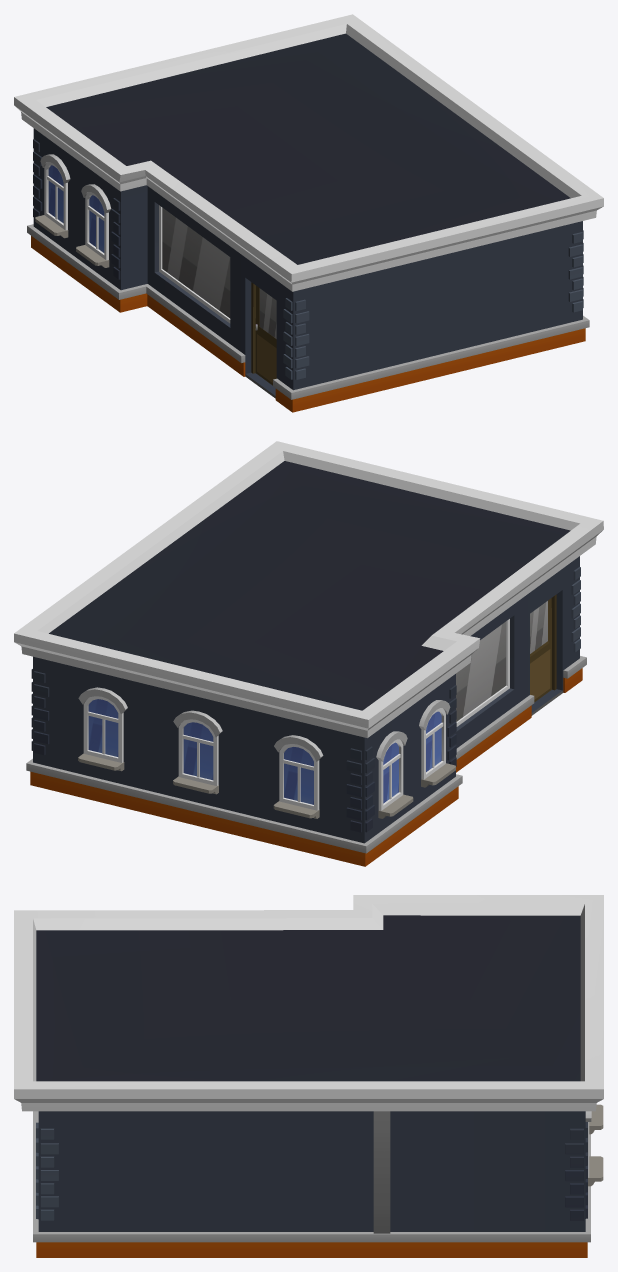
Rendered from Building_1_1_A.fbx.
The picture shows the model from 3 angles, top to bottom: view 1: azimuth 30°, elevation 25°; view 2: azimuth 150°, elevation 25°; view 3: azimuth 270°, elevation 25°; orthographic projection. The views are drawn at different scales.
Visible parts, largest first — view 1: Building_1_1_A; view 2: Building_1_1_A; view 3: Building_1_1_A.
Part boxes in pixels (x1,y1,x2,y2): Building_1_1_A: [14, 14, 603, 412]; Building_1_1_A: [14, 441, 603, 866]; Building_1_1_A: [14, 895, 603, 1257].
Size of the model in its own units: 822 by 341 by 1051.
